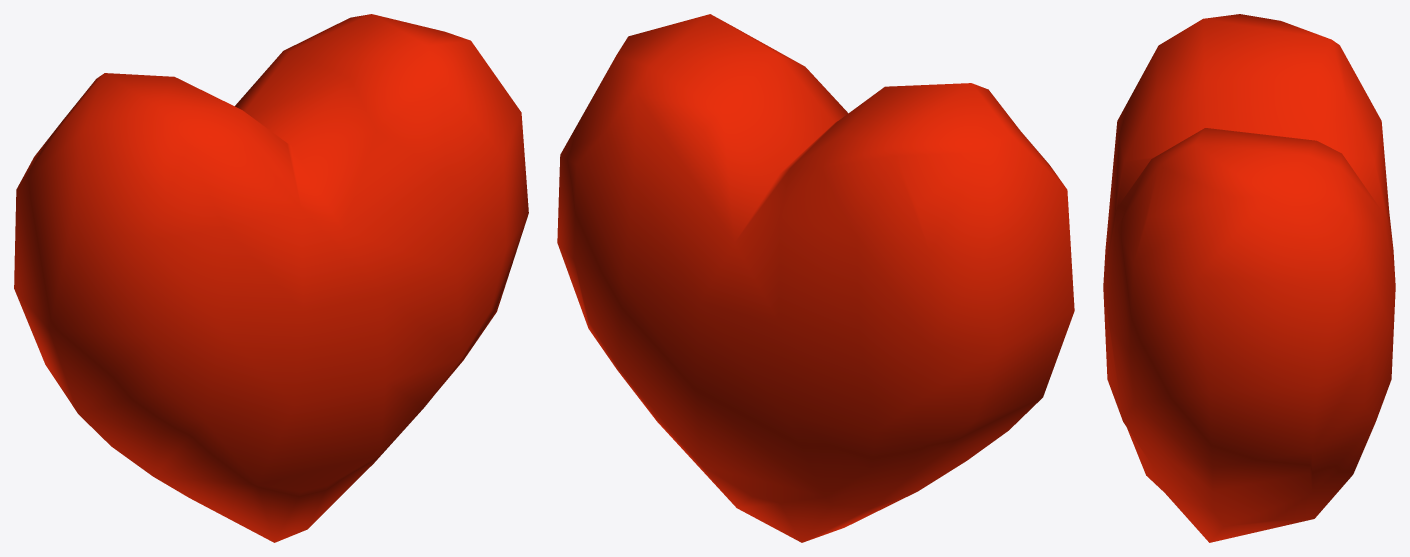
File: Heart.fbx
The picture shows the model from 3 angles, left to right: view 1: azimuth 30°, elevation 25°; view 2: azimuth 150°, elevation 25°; view 3: azimuth 270°, elevation 25°; orthographic projection. The views are drawn at different scales.
Parts seen in each view (by area): view 1: Cube; view 2: Cube; view 3: Cube.
Part boxes in pixels (x1,y1,x2,y2): Cube: (14, 14, 528, 542); Cube: (557, 14, 1074, 542); Cube: (1103, 14, 1395, 542).
Size of the model in its own units: 0.3924 by 0.7277 by 0.6805.
